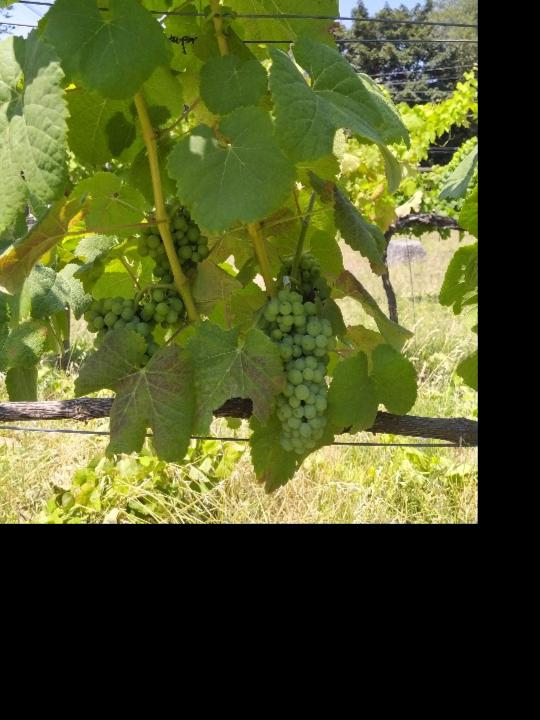grape: (262, 285, 335, 457), (135, 211, 211, 328), (79, 292, 164, 366)
